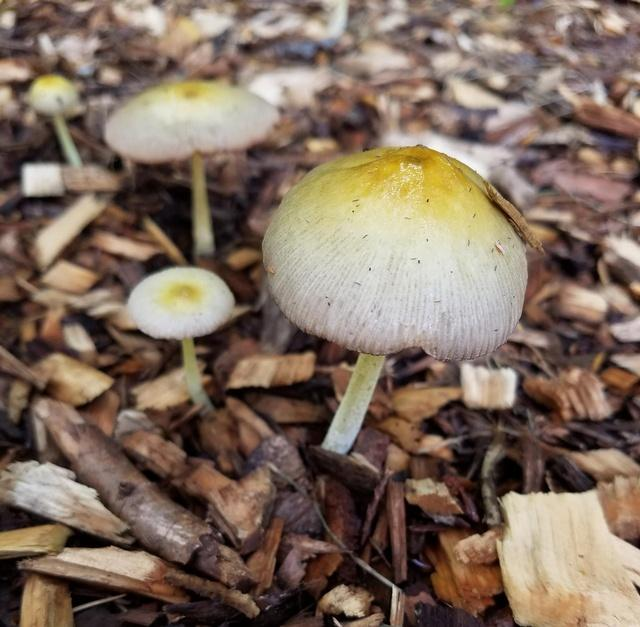edible_mushroom: (260, 143, 535, 455), (102, 77, 279, 259), (125, 264, 236, 415)
